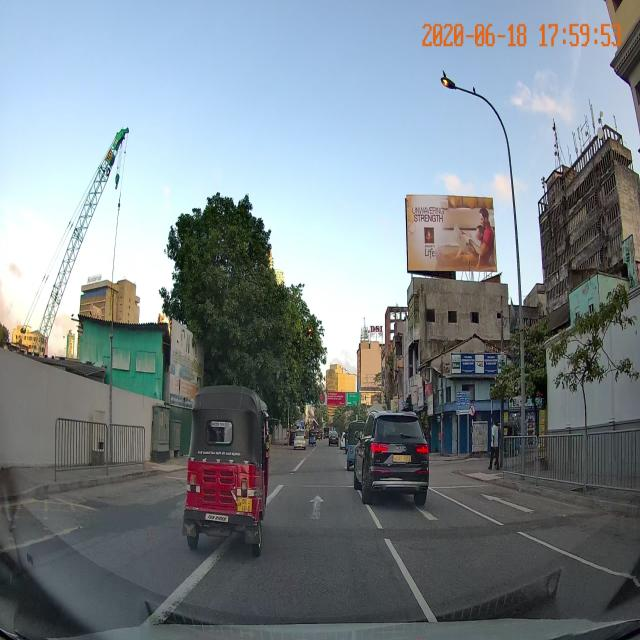diamond: (261, 491, 389, 542)
